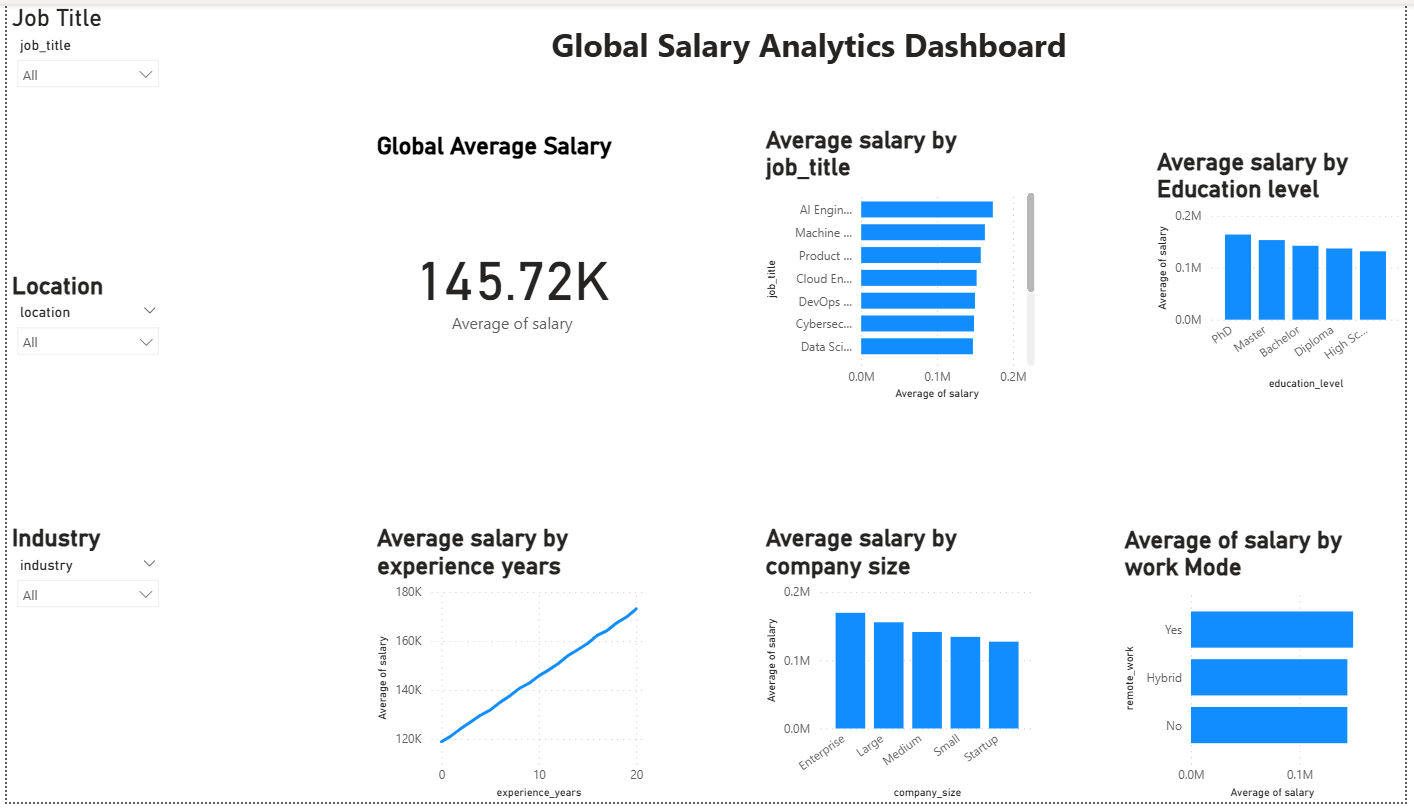

The dashboard page shown, as its layout file describes it:
{"tool":"powerbi","page":{"name":"Page 1","canvas":[1400,800],"ordinal":0},"visuals":[{"type":"card","title":"Global Average Salary","fields":{"Values":["Avg(job_salary_prediction_dataset.salary)"]},"box":[365.4,127.7,281.2,279.8],"z":0},{"type":"clusteredBarChart","title":"Average salary by job_title","fields":{"Category":["job_salary_prediction_dataset.job_title"],"Y":["Avg(job_salary_prediction_dataset.salary)"]},"box":[755.2,120.9,279.8,279.8],"z":1},{"type":"lineChart","title":"Average salary by experience years","fields":{"Category":["job_salary_prediction_dataset.experience_years"],"Y":["Avg(job_salary_prediction_dataset.salary)"]},"box":[365.4,520.2,279.8,279.8],"z":2},{"type":"clusteredColumnChart","title":"Average salary by company size","fields":{"Category":["job_salary_prediction_dataset.company_size"],"Y":["Avg(job_salary_prediction_dataset.salary)"]},"box":[755.2,520.2,279.8,279.8],"z":3},{"type":"barChart","title":"Average of salary by work Mode","fields":{"Category":["job_salary_prediction_dataset.remote_work"],"Y":["Avg(job_salary_prediction_dataset.salary)"]},"box":[1113.8,521.6,254,278.4],"z":5},{"type":"slicer","title":"Job Title","fields":{"Values":["job_salary_prediction_dataset.job_title"]},"box":[0,0,161.6,171.1],"z":6},{"type":"slicer","title":"Location ","fields":{"Values":["job_salary_prediction_dataset.location"]},"box":[0,267.5,162,171],"z":7},{"type":"slicer","title":"Industry","fields":{"Values":["job_salary_prediction_dataset.industry"]},"box":[0,520.2,161.6,171.1],"z":8},{"type":"clusteredColumnChart","title":"Average salary by Education level","fields":{"Category":["job_salary_prediction_dataset.education_level"],"Y":["Avg(job_salary_prediction_dataset.salary)"]},"box":[1146.3,144,254,247.2],"z":9},{"type":"textbox","box":[231,268,162,171],"z":10},{"type":"textbox","box":[434.6,13.6,639.7,96.4],"z":11}]}

Visuals, with their boxes in screenshot pixels (x1, y1, x2, y2), scaled from the page's 1400x800 canvas onto the 1414x810 screenshot:
"Global Average Salary" card: <region>369, 129, 653, 413</region>
"Average salary by job_title" clusteredBarChart: <region>763, 122, 1045, 406</region>
"Average salary by experience years" lineChart: <region>369, 527, 652, 809</region>
"Average salary by company size" clusteredColumnChart: <region>763, 527, 1045, 809</region>
"Average of salary by work Mode" barChart: <region>1125, 528, 1381, 809</region>
"Job Title" slicer: <region>0, 0, 163, 173</region>
"Location " slicer: <region>0, 271, 164, 444</region>
"Industry" slicer: <region>0, 527, 163, 700</region>
"Average salary by Education level" clusteredColumnChart: <region>1158, 146, 1413, 396</region>
textbox: <region>233, 271, 397, 444</region>
textbox: <region>439, 14, 1085, 111</region>
